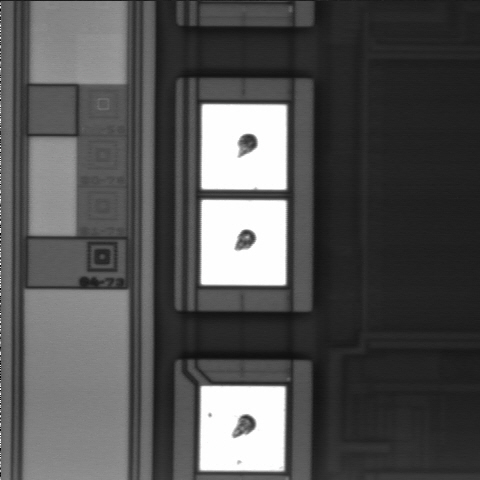pad: (202, 104, 287, 190), (201, 200, 286, 285), (200, 386, 285, 471)
